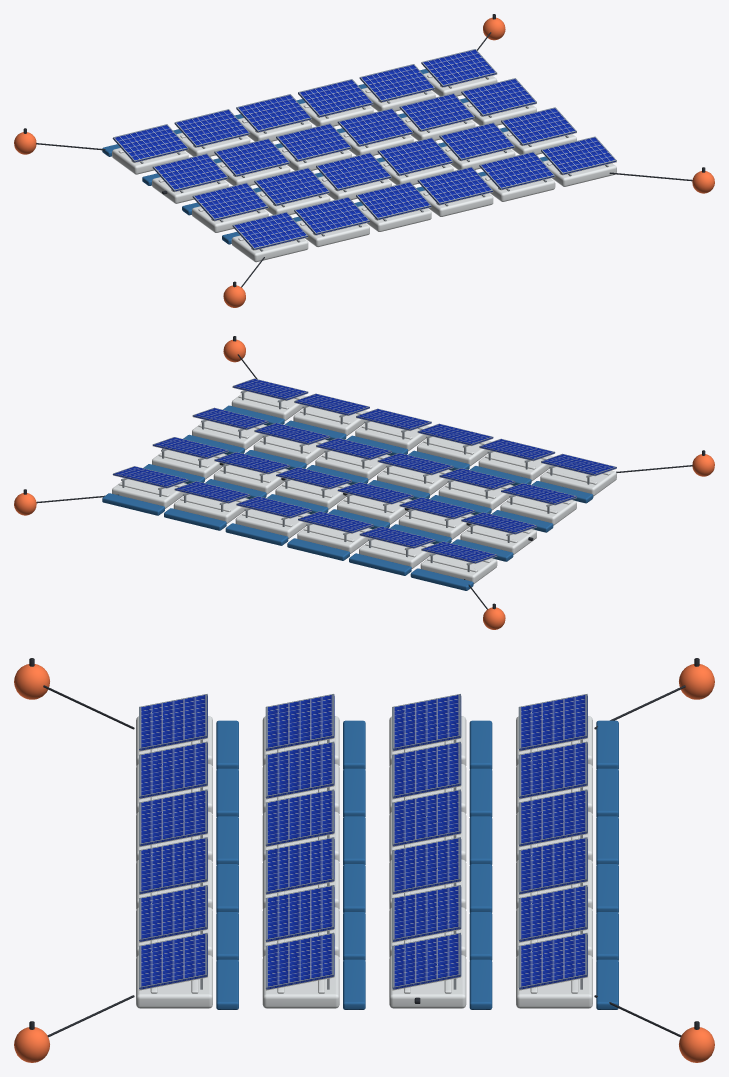
Rendered from centrale-flottante.glb.
3 renders of one model, top to bottom at view 1: azimuth 30°, elevation 25°; view 2: azimuth 150°, elevation 25°; view 3: azimuth 270°, elevation 25°, orthographic. The views are drawn at different scales.
Parts seen in each view (by area): view 1: centrale; view 2: centrale; view 3: centrale.
Part boxes in pixels (<box>): centrale: <box>14,14,714,307</box>; centrale: <box>14,336,714,629</box>; centrale: <box>14,658,714,1062</box>.
Bounding box in the file's own units: 3.96 × 0.2219 × 3.1.
Materials: 7 (1 with a texture image).
